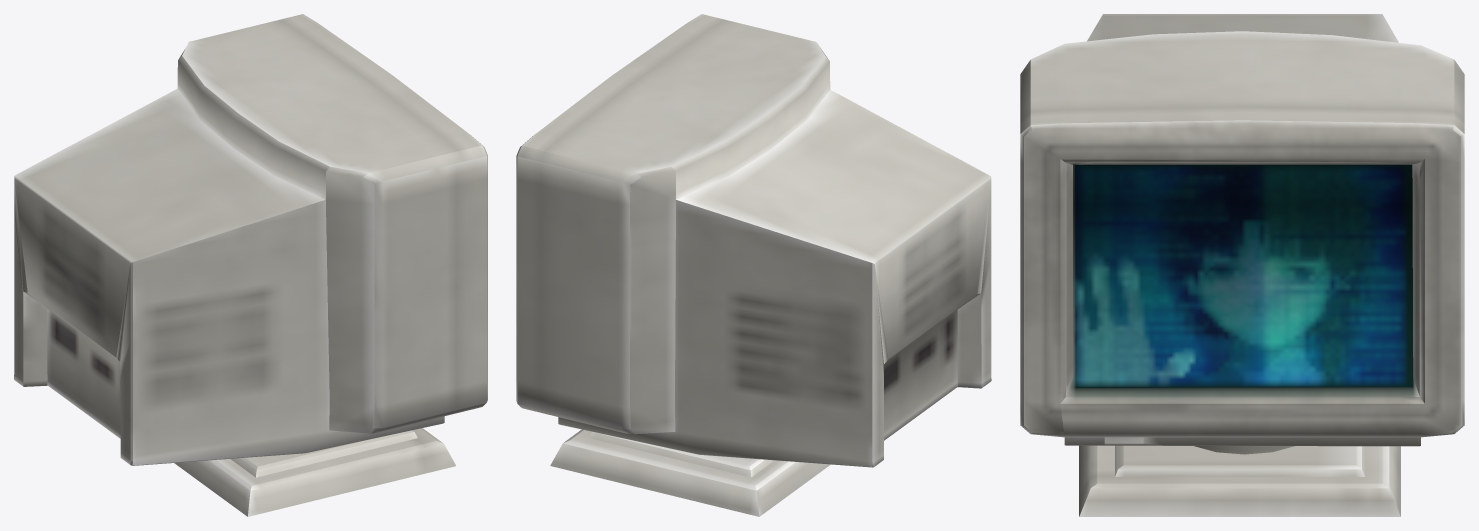
File: Computer.fbx
3 views of the same model, side by side, from view 1: azimuth 30°, elevation 25°; view 2: azimuth 150°, elevation 25°; view 3: azimuth 270°, elevation 25° (orthographic). The views are drawn at different scales.
Parts seen in each view (by area): view 1: obj_computer; view 2: obj_computer; view 3: obj_computer.
Part boxes in pixels (x1,y1,x2,y2): obj_computer: [14, 14, 487, 516]; obj_computer: [516, 14, 991, 516]; obj_computer: [1020, 14, 1464, 516].
Size of the model in its own units: 458 by 459 by 462.
Materials: 1 (1 with a texture image).
